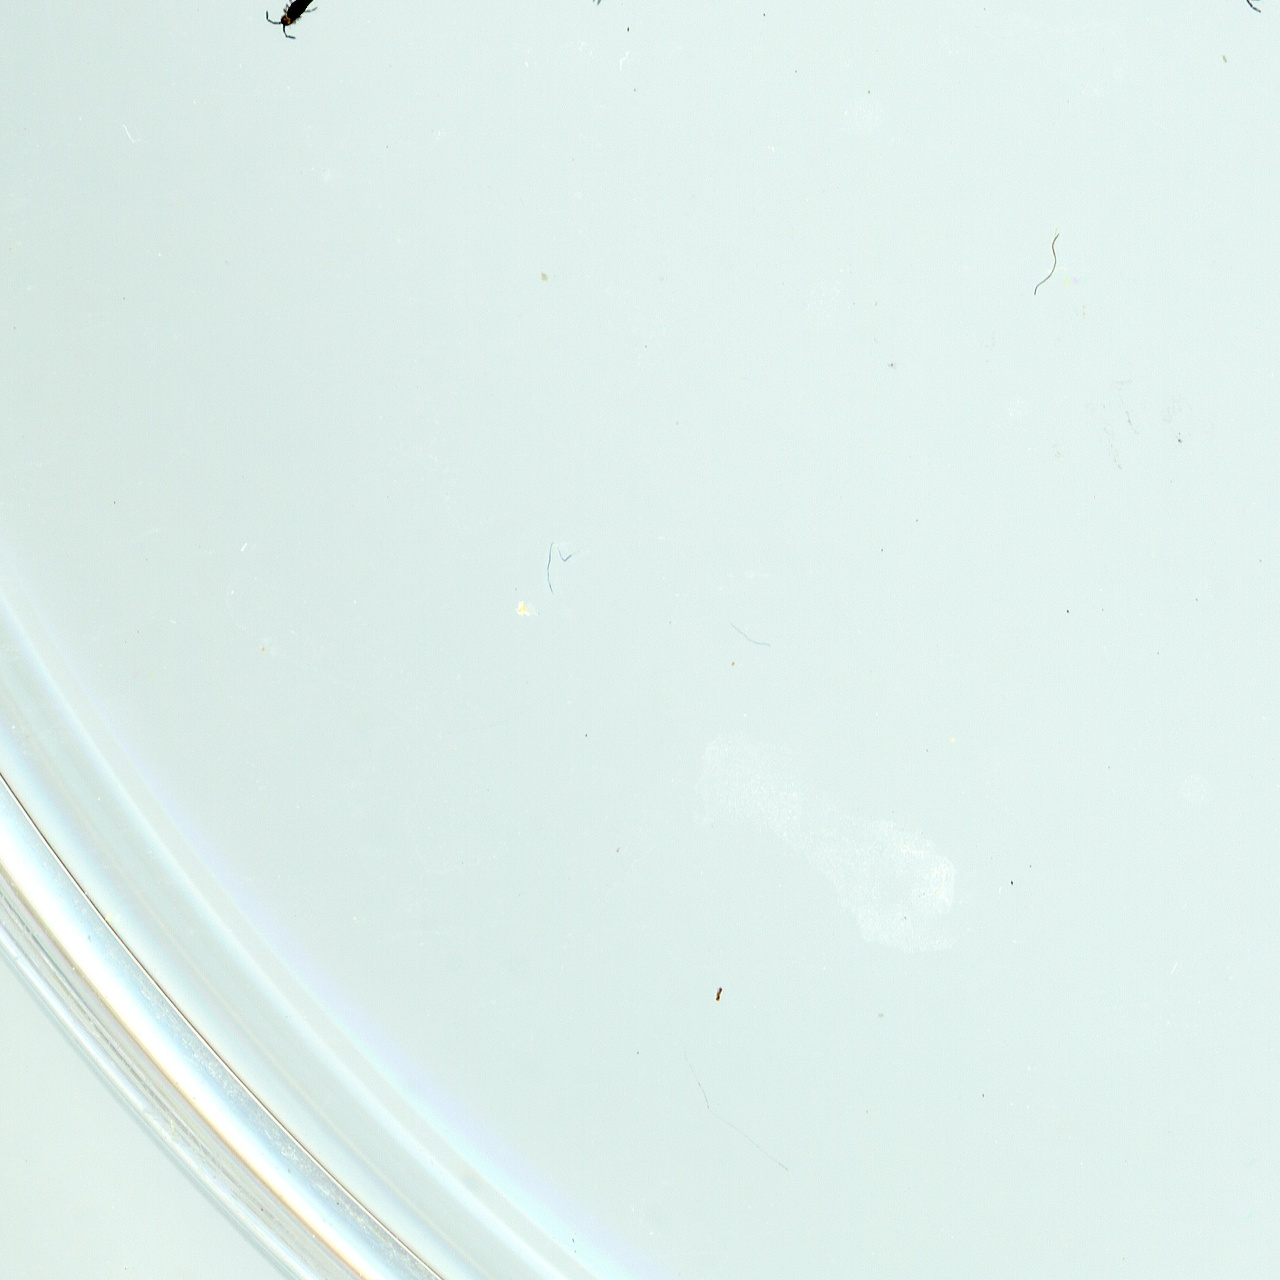arthropod: (253, 0, 339, 53), (586, 0, 692, 15), (1227, 0, 1275, 16)
